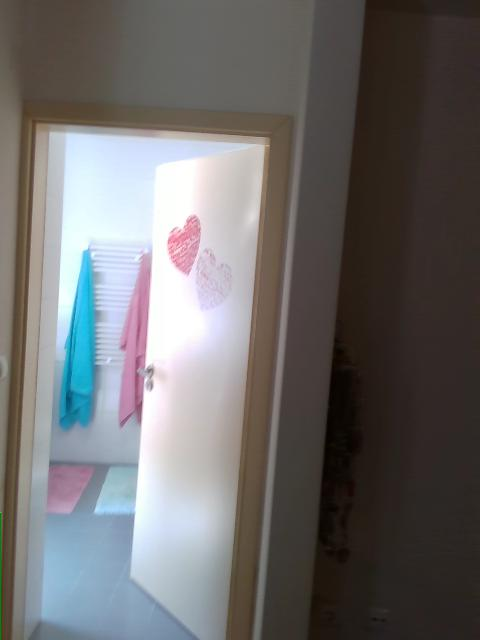semi_door: (7, 98, 300, 639)
